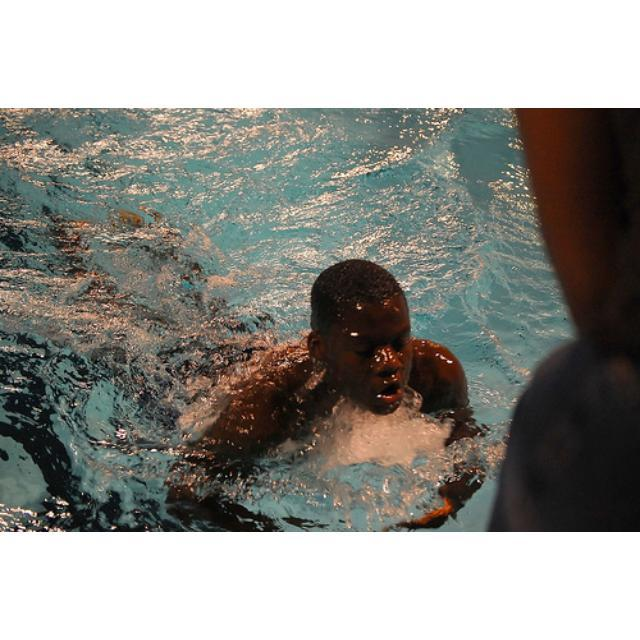human: (57, 207, 488, 524)
